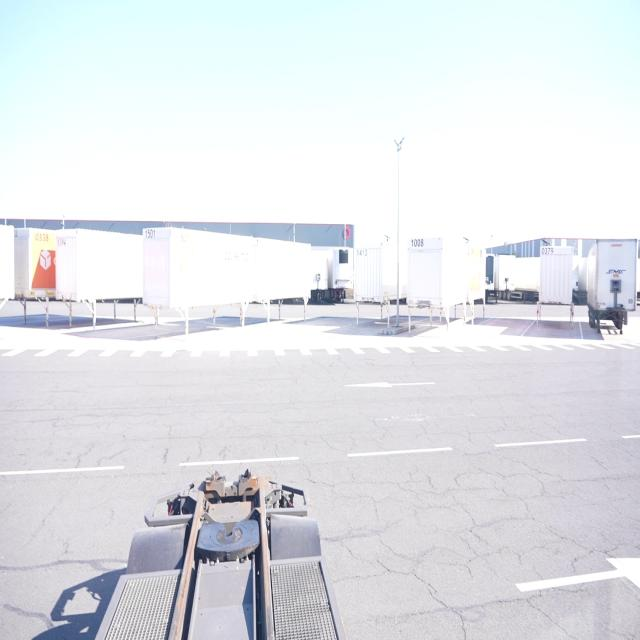Code: (142, 224, 158, 246), (408, 232, 425, 252), (538, 240, 556, 258), (354, 246, 369, 266), (30, 232, 51, 246)
